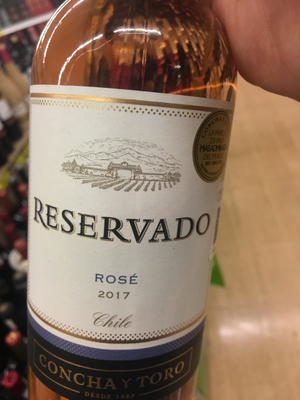reservado rose: (21, 10, 236, 400)
